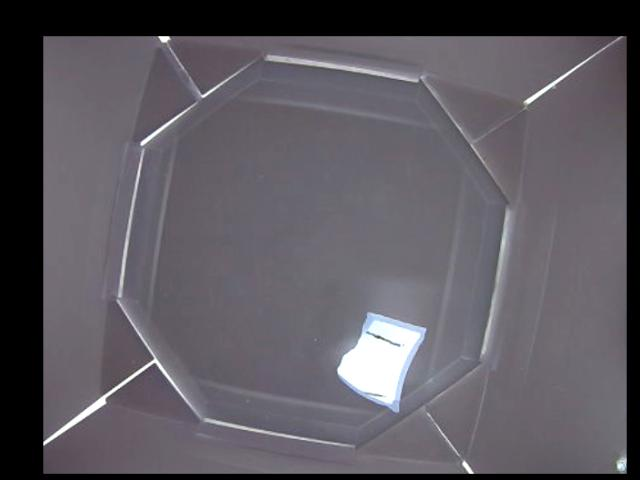China: (336, 309, 428, 408)
